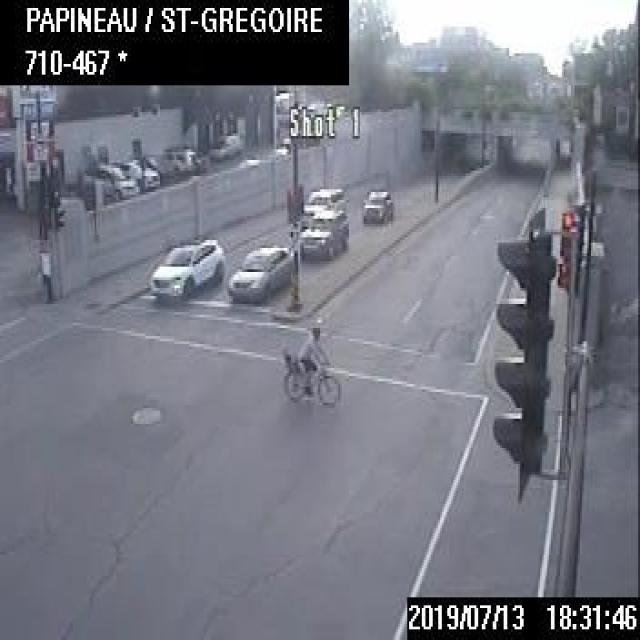cyclist: (282, 318, 340, 406)
vehicle: (146, 234, 223, 294), (224, 242, 292, 304), (80, 159, 140, 201), (298, 212, 347, 259), (157, 144, 200, 181), (301, 184, 346, 218), (120, 155, 160, 190), (360, 187, 393, 224), (206, 130, 240, 160)
